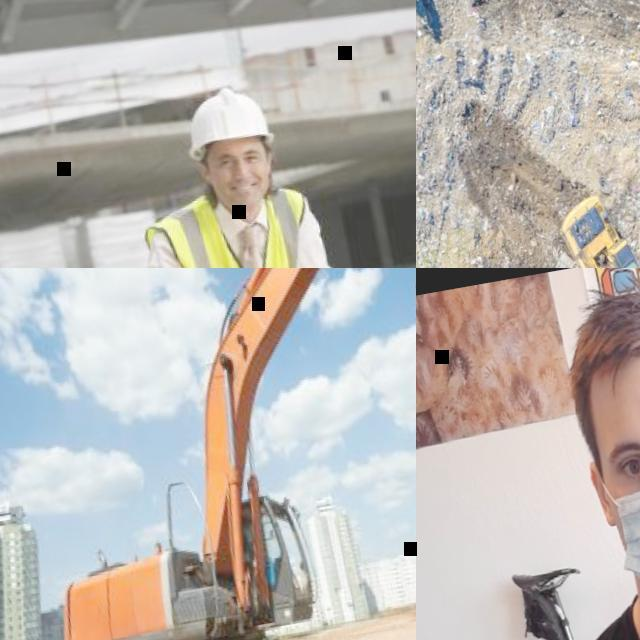helmet: (179, 81, 275, 161)
vest: (136, 179, 322, 268)
